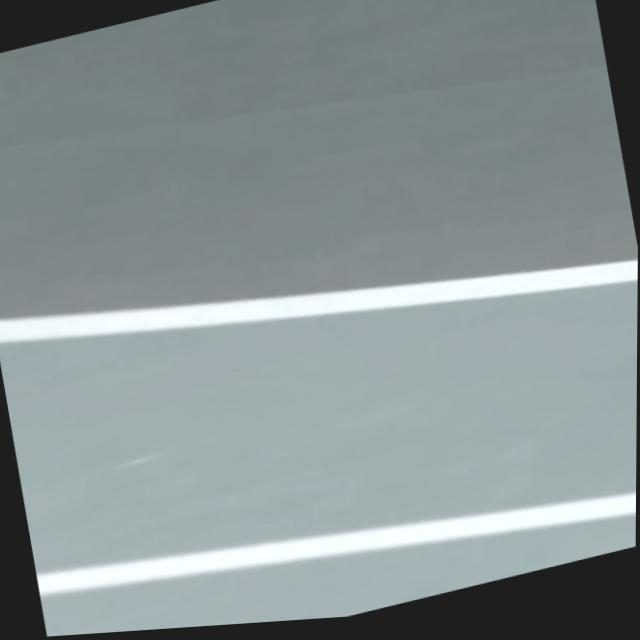left: (0, 258, 638, 342)
